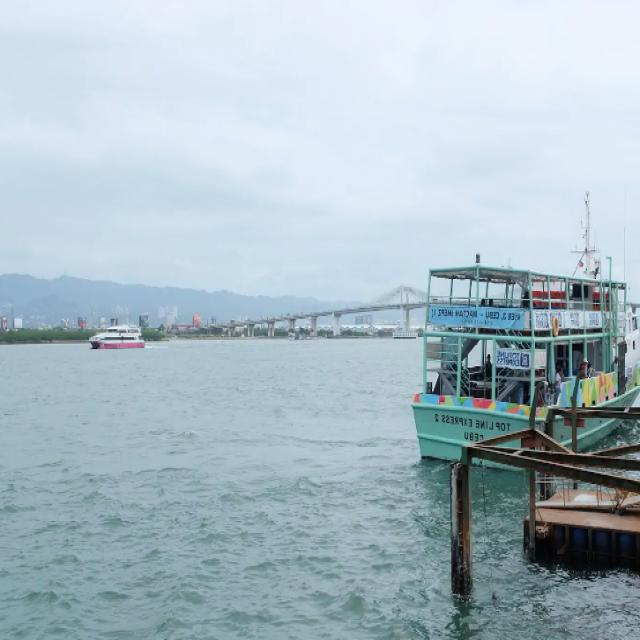passenger ship: (378, 266, 640, 480)
